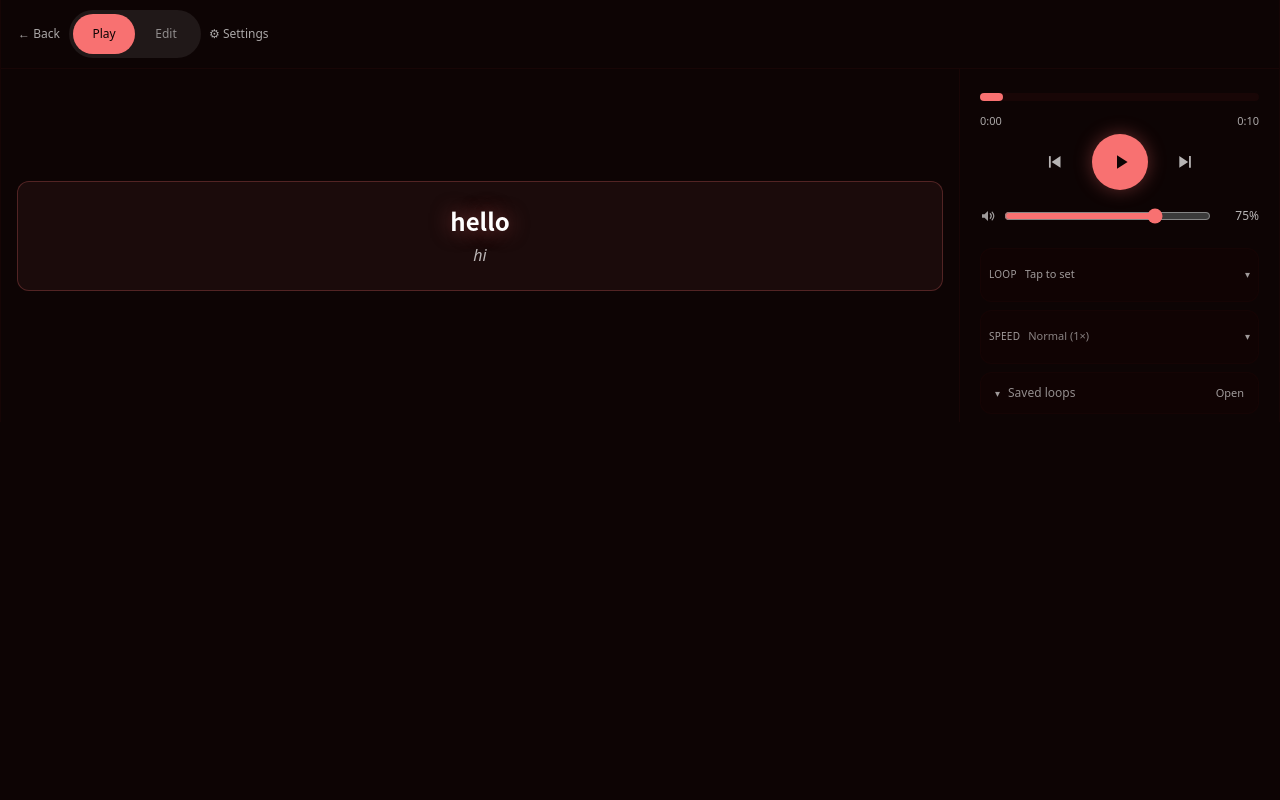
Scenario: PlayerView A/B loop › loops a single lyric line when B is set on the same line as A
The image size is (1280, 800).
Expected: the text "hello" is shown, [450, 203, 510, 238]
Click the button "Loop Tap to set ▾" at (1050, 274), box [989, 256, 1250, 292]
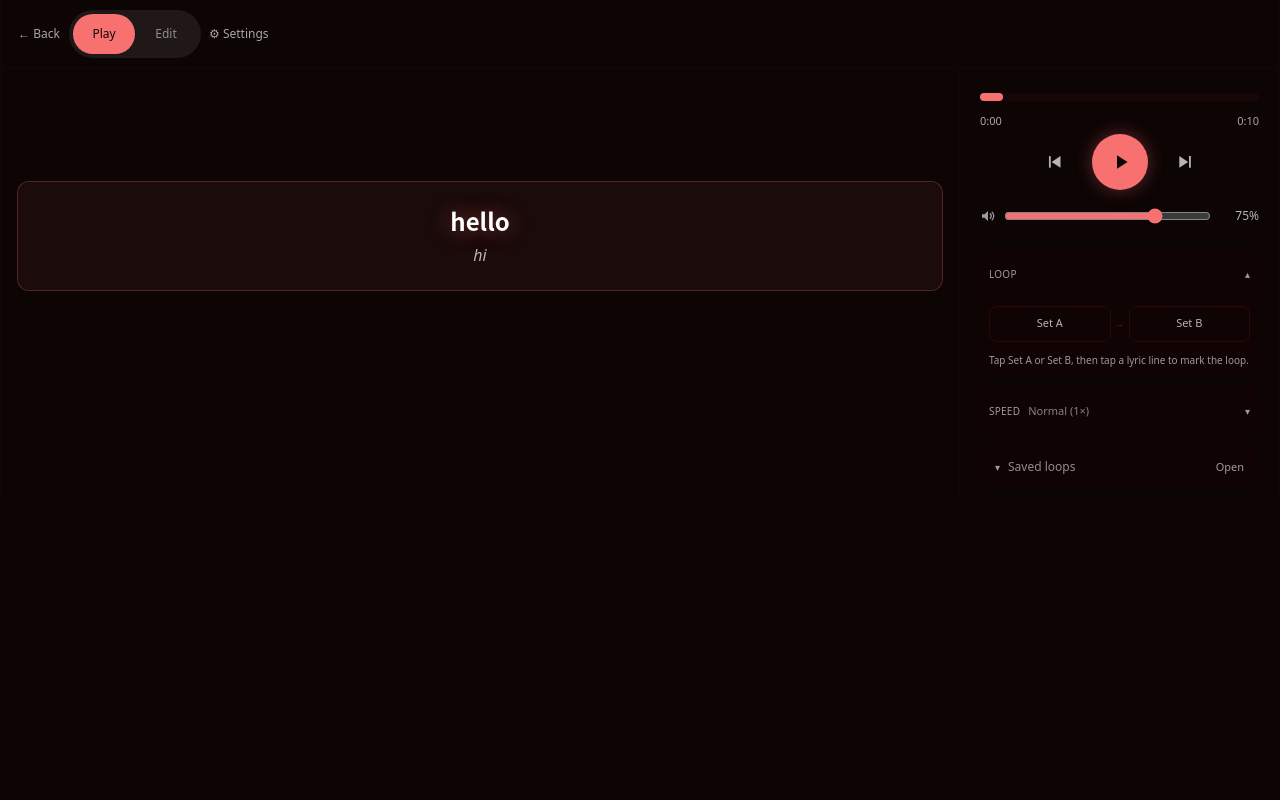
Click the button with aria-label "a loop point" at (1050, 324), box [989, 306, 1110, 342]
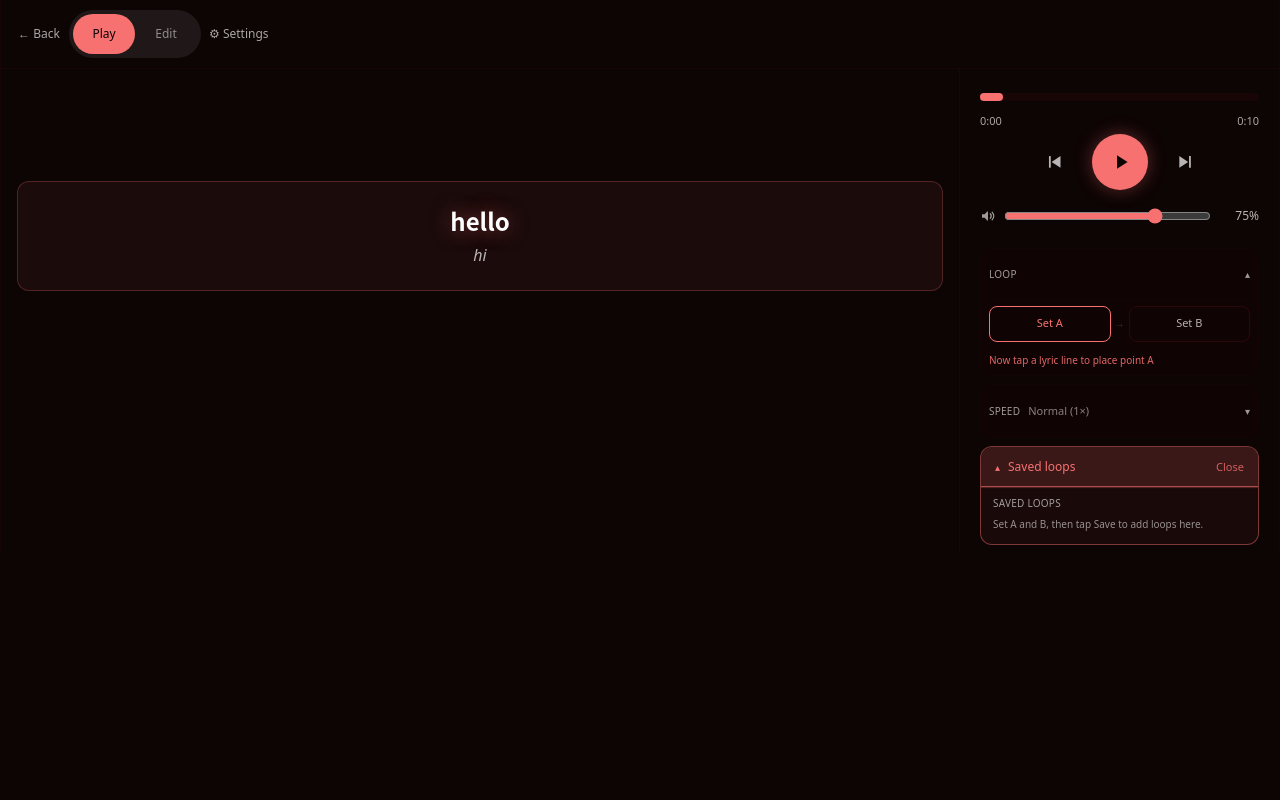
Click the text "hello" at (480, 220), box [450, 203, 510, 238]
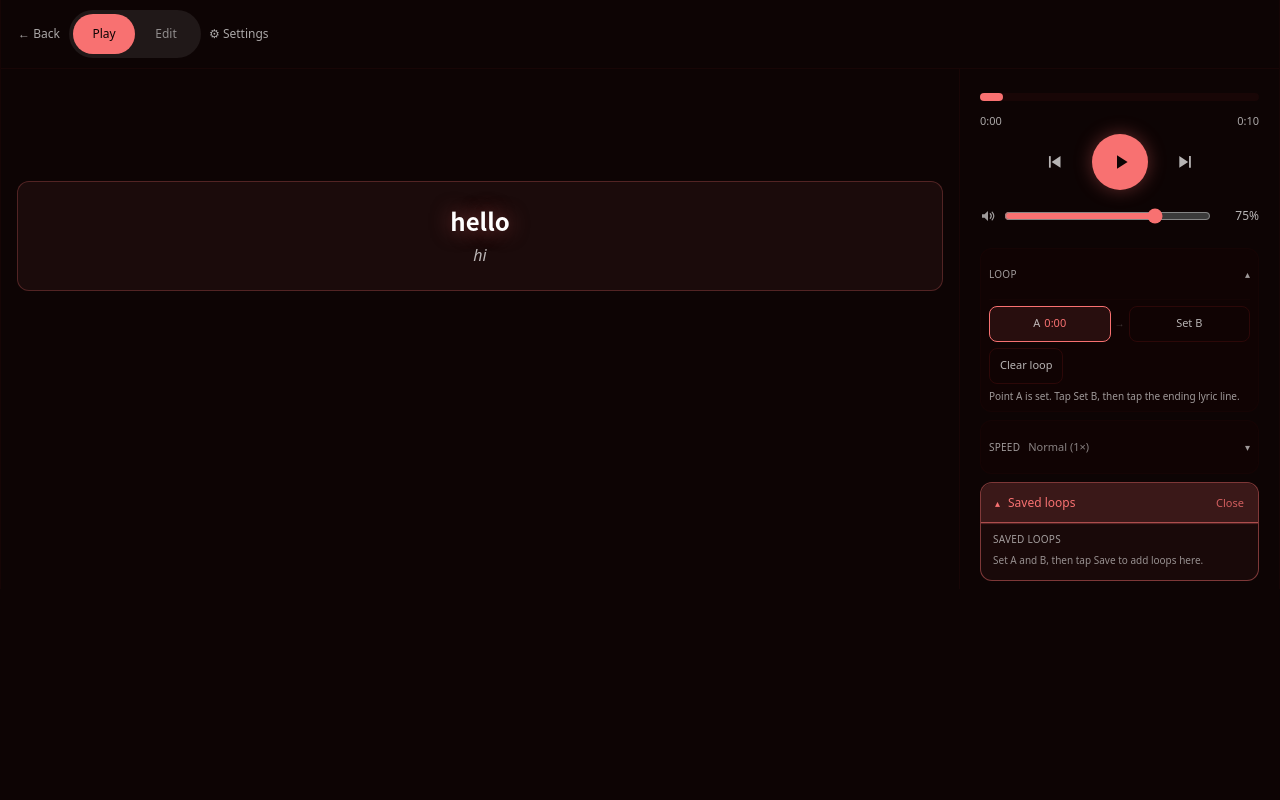
Click the button with aria-label "b loop point" at (1189, 324), box [1128, 306, 1250, 342]
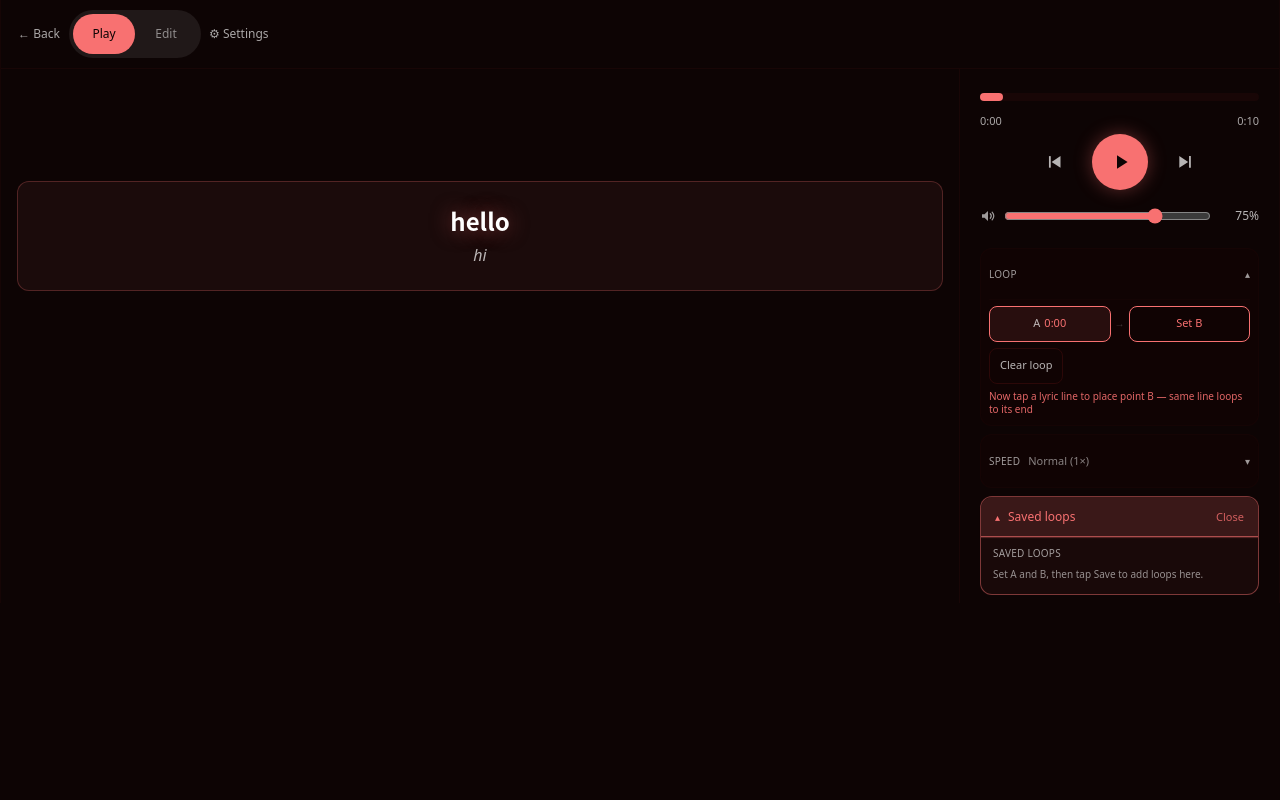
Click the text "hello" at (480, 220), box [450, 203, 510, 238]
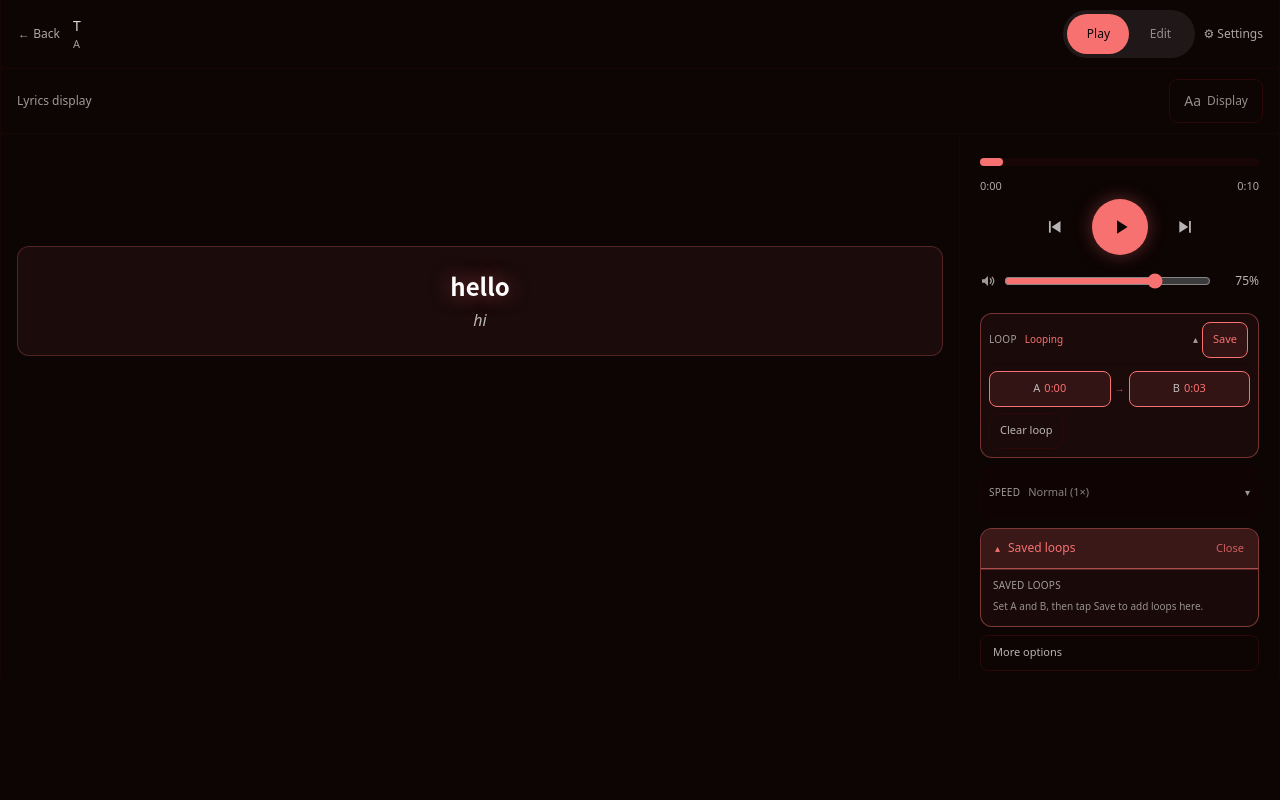
Expected: the message "Now tap a lyric line to place point B — same line loops to its end" is gone
